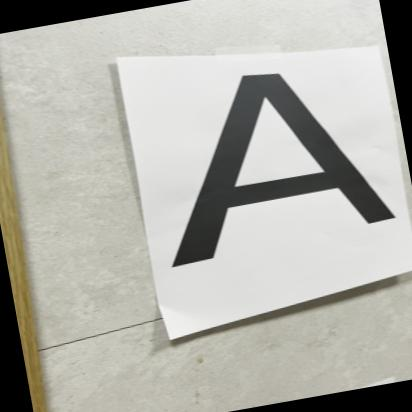seat: (133, 45, 412, 276)
